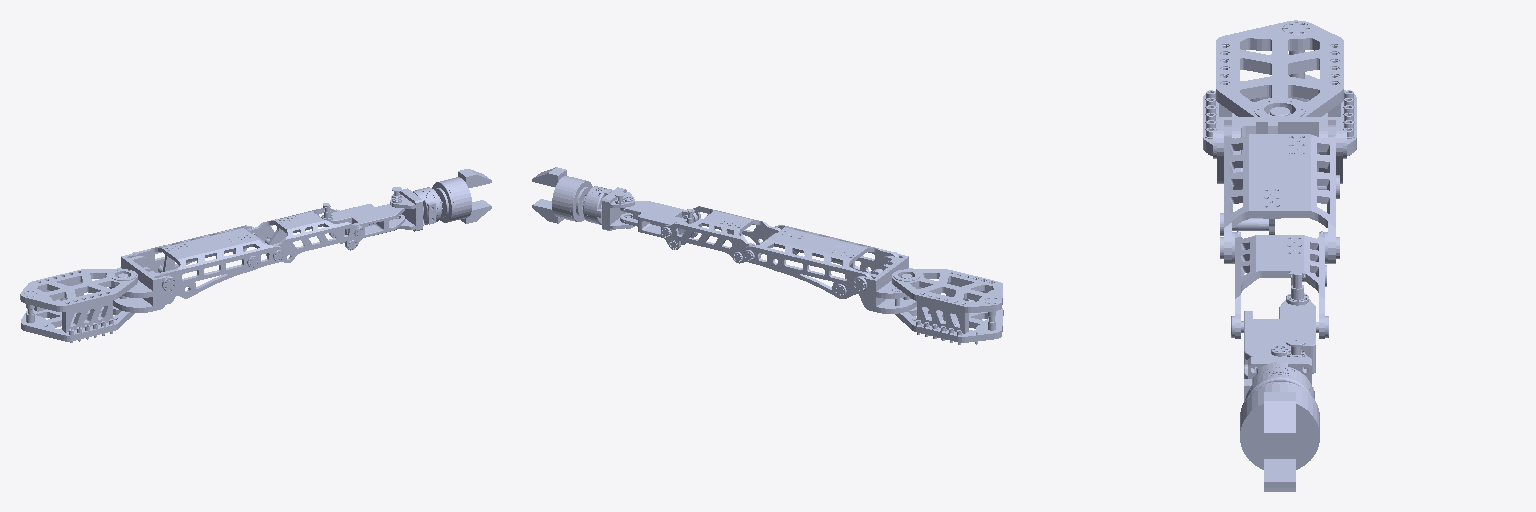
robot.urdf — SLAVE_ARM2:
<robot
  name="SLAVE_ARM2">
  <link
    name="BASE">
    <inertial>
      <origin
        xyz="0.29533 -0.048851 0.1022"
        rpy="0 0 0" />
      <mass
        value="17.574" />
      <inertia
        ixx="0.46316"
        ixy="-0.017348"
        ixz="0"
        iyy="0.78313"
        iyz="0"
        izz="0.97746" />
    </inertial>
    <visual>
      <origin
        xyz="0 0 0"
        rpy="0 0 0" />
      <geometry>
        <mesh
          filename="package://SLAVE_ARM2/meshes/BASE.STL" />
      </geometry>
      <material
        name="">
        <color
          rgba="0.79216 0.81961 0.93333 1" />
      </material>
    </visual>
    <collision>
      <origin
        xyz="0 0 0"
        rpy="0 0 0" />
      <geometry>
        <mesh
          filename="package://SLAVE_ARM2/meshes/BASE.STL" />
      </geometry>
    </collision>
  </link>
  <link
    name="LINK1">
    <inertial>
      <origin
        xyz="0.11039 -0.013719 0.018917"
        rpy="0 0 0" />
      <mass
        value="10.337" />
      <inertia
        ixx="0.16943"
        ixy="-0.014979"
        ixz="0.0092941"
        iyy="0.10174"
        iyz="0"
        izz="0.20482" />
    </inertial>
    <visual>
      <origin
        xyz="0 0 0"
        rpy="0 0 0" />
      <geometry>
        <mesh
          filename="package://SLAVE_ARM2/meshes/LINK1.STL" />
      </geometry>
      <material
        name="">
        <color
          rgba="0.79216 0.81961 0.93333 1" />
      </material>
    </visual>
    <collision>
      <origin
        xyz="0 0 0"
        rpy="0 0 0" />
      <geometry>
        <mesh
          filename="package://SLAVE_ARM2/meshes/LINK1.STL" />
      </geometry>
    </collision>
  </link>
  <joint
    name="LINK1_JOINT"
    type="continuous">
    <origin
      xyz="0.608 -0.052 0.111"
      rpy="0 0 0" />
    <parent
      link="BASE" />
    <child
      link="LINK1" />
    <axis
      xyz="0 0 1" />
  </joint>
  <link
    name="LINK2">
    <inertial>
      <origin
        xyz="0.38704 0.0012819 0.021917"
        rpy="0 0 0" />
      <mass
        value="9.5413" />
      <inertia
        ixx="0.1866"
        ixy="-0.016571"
        ixz="0.023672"
        iyy="0.52143"
        iyz="0"
        izz="0.64609" />
    </inertial>
    <visual>
      <origin
        xyz="0 0 0"
        rpy="0 0 0" />
      <geometry>
        <mesh
          filename="package://SLAVE_ARM2/meshes/LINK2.STL" />
      </geometry>
      <material
        name="">
        <color
          rgba="0.79216 0.81961 0.93333 1" />
      </material>
    </visual>
    <collision>
      <origin
        xyz="0 0 0"
        rpy="0 0 0" />
      <geometry>
        <mesh
          filename="package://SLAVE_ARM2/meshes/LINK2.STL" />
      </geometry>
    </collision>
  </link>
  <joint
    name="LINK2_JOINT"
    type="continuous">
    <origin
      xyz="0.2 0 0.09"
      rpy="0 0 0" />
    <parent
      link="LINK1" />
    <child
      link="LINK2" />
    <axis
      xyz="0 1 0" />
  </joint>
  <link
    name="LINK3">
    <inertial>
      <origin
        xyz="0.25126 0.0060177 0.030861"
        rpy="0 0 0" />
      <mass
        value="4.6229" />
      <inertia
        ixx="0.064981"
        ixy="0"
        ixz="0"
        iyy="0.1378"
        iyz="0"
        izz="0.18077" />
    </inertial>
    <visual>
      <origin
        xyz="0 0 0"
        rpy="0 0 0" />
      <geometry>
        <mesh
          filename="package://SLAVE_ARM2/meshes/LINK3.STL" />
      </geometry>
      <material
        name="">
        <color
          rgba="0.79216 0.81961 0.93333 1" />
      </material>
    </visual>
    <collision>
      <origin
        xyz="0 0 0"
        rpy="0 0 0" />
      <geometry>
        <mesh
          filename="package://SLAVE_ARM2/meshes/LINK3.STL" />
      </geometry>
    </collision>
  </link>
  <joint
    name="LINK3_JOINT"
    type="continuous">
    <origin
      xyz="0.765 0 0"
      rpy="0 0 0" />
    <parent
      link="LINK2" />
    <child
      link="LINK3" />
    <axis
      xyz="0 1 0" />
  </joint>
  <link
    name="LINK4">
    <inertial>
      <origin
        xyz="0.096298 0.0059709 -0.013363"
        rpy="0 0 0" />
      <mass
        value="6.0768" />
      <inertia
        ixx="0.032953"
        ixy="-0.01246"
        ixz="0"
        iyy="0.1069"
        iyz="0"
        izz="0.11961" />
    </inertial>
    <visual>
      <origin
        xyz="0 0 0"
        rpy="0 0 0" />
      <geometry>
        <mesh
          filename="package://SLAVE_ARM2/meshes/LINK4.STL" />
      </geometry>
      <material
        name="">
        <color
          rgba="0.79216 0.81961 0.93333 1" />
      </material>
    </visual>
    <collision>
      <origin
        xyz="0 0 0"
        rpy="0 0 0" />
      <geometry>
        <mesh
          filename="package://SLAVE_ARM2/meshes/LINK4.STL" />
      </geometry>
    </collision>
  </link>
  <joint
    name="LINK4_JOINT"
    type="continuous">
    <origin
      xyz="0.582 0 0"
      rpy="0 0 0" />
    <parent
      link="LINK3" />
    <child
      link="LINK4" />
    <axis
      xyz="0 1 0" />
  </joint>
  <link
    name="LINK5">
    <inertial>
      <origin
        xyz="0.15128 -0.0003963 0.0011881"
        rpy="0 0 0" />
      <mass
        value="7.0927" />
      <inertia
        ixx="0.044594"
        ixy="0.00072634"
        ixz="0.0010377"
        iyy="0.059768"
        iyz="-0.00044615"
        izz="0.05698" />
    </inertial>
    <visual>
      <origin
        xyz="0 0 0"
        rpy="0 0 0" />
      <geometry>
        <mesh
          filename="package://SLAVE_ARM2/meshes/LINK5.STL" />
      </geometry>
      <material
        name="">
        <color
          rgba="0.79216 0.81961 0.93333 1" />
      </material>
    </visual>
    <collision>
      <origin
        xyz="0 0 0"
        rpy="0 0 0" />
      <geometry>
        <mesh
          filename="package://SLAVE_ARM2/meshes/LINK5.STL" />
      </geometry>
    </collision>
  </link>
  <joint
    name="LINK5_JOINT"
    type="continuous">
    <origin
      xyz="0.34 0 -0.01"
      rpy="0 0 0" />
    <parent
      link="LINK4" />
    <child
      link="LINK5" />
    <axis
      xyz="0 0 1" />
  </joint>
  <link
    name="LINK6">
    <inertial>
      <origin
        xyz="0.11622 0 0"
        rpy="0 0 0" />
      <mass
        value="7.1931" />
      <inertia
        ixx="0.084239"
        ixy="0"
        ixz="0"
        iyy="0.10785"
        iyz="0"
        izz="0.082741" />
    </inertial>
    <visual>
      <origin
        xyz="0 0 0"
        rpy="0 0 0" />
      <geometry>
        <mesh
          filename="package://SLAVE_ARM2/meshes/LINK6.STL" />
      </geometry>
      <material
        name="">
        <color
          rgba="0.79216 0.81961 0.93333 1" />
      </material>
    </visual>
    <collision>
      <origin
        xyz="0 0 0"
        rpy="0 0 0" />
      <geometry>
        <mesh
          filename="package://SLAVE_ARM2/meshes/LINK6.STL" />
      </geometry>
    </collision>
  </link>
  <joint
    name="LINK6_JOINT"
    type="continuous">
    <origin
      xyz="0.29162 0 0"
      rpy="0 0 0" />
    <parent
      link="LINK5" />
    <child
      link="LINK6" />
    <axis
      xyz="1 0 0" />
  </joint>
</robot>

--- What the picture shows (computed from the rendered views, not written in the file) ---
3 views of the same robot in one strip: view 1: azimuth 30°, elevation 25°; view 2: azimuth 150°, elevation 25°; view 3: azimuth 270°, elevation 25° (orthographic).
Robot: SLAVE_ARM2 — 7 links, 6 joints (6 continuous); root link BASE; default pose: all joints at 0.
Links seen in each view (by area): view 1: BASE, LINK2, LINK3, LINK1, LINK6, LINK4, LINK5; view 2: BASE, LINK2, LINK3, LINK1, LINK6, LINK4, LINK5; view 3: BASE, LINK2, LINK6, LINK3, LINK4, LINK1, LINK5.
Boxes of the visible links, x1=… form: BASE: x1=20, y1=269, x2=137, y2=342; LINK2: x1=130, y1=225, x2=284, y2=298; LINK3: x1=247, y1=208, x2=364, y2=262; LINK1: x1=109, y1=252, x2=176, y2=312; LINK6: x1=432, y1=169, x2=491, y2=223; LINK4: x1=321, y1=203, x2=404, y2=250; LINK5: x1=390, y1=187, x2=441, y2=231; BASE: x1=892, y1=269, x2=1003, y2=344; LINK2: x1=742, y1=225, x2=898, y2=298; LINK3: x1=661, y1=206, x2=780, y2=263; LINK1: x1=853, y1=252, x2=921, y2=313; LINK6: x1=532, y1=167, x2=592, y2=223; LINK4: x1=620, y1=201, x2=697, y2=249; LINK5: x1=583, y1=186, x2=634, y2=230; BASE: x1=1203, y1=20, x2=1356, y2=155; LINK2: x1=1220, y1=125, x2=1339, y2=263; LINK6: x1=1240, y1=382, x2=1319, y2=491; LINK3: x1=1231, y1=231, x2=1328, y2=338; LINK4: x1=1244, y1=270, x2=1315, y2=378; LINK1: x1=1213, y1=117, x2=1346, y2=189; LINK5: x1=1244, y1=336, x2=1314, y2=400.
Bounding box of the posed robot: 3.18 × 0.48 × 0.373 m (x, y, z).
Meshes: 7 distinct files referenced, 7 mesh visuals loaded (7 binary STL).